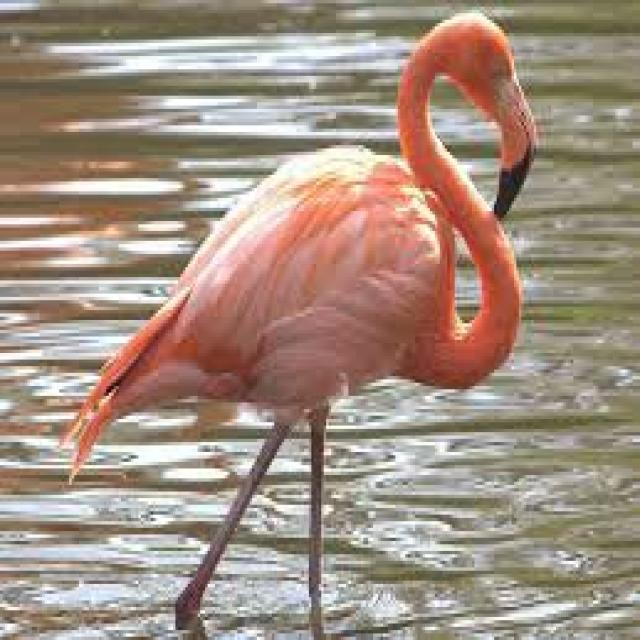Flamingo: (66, 3, 540, 640)
